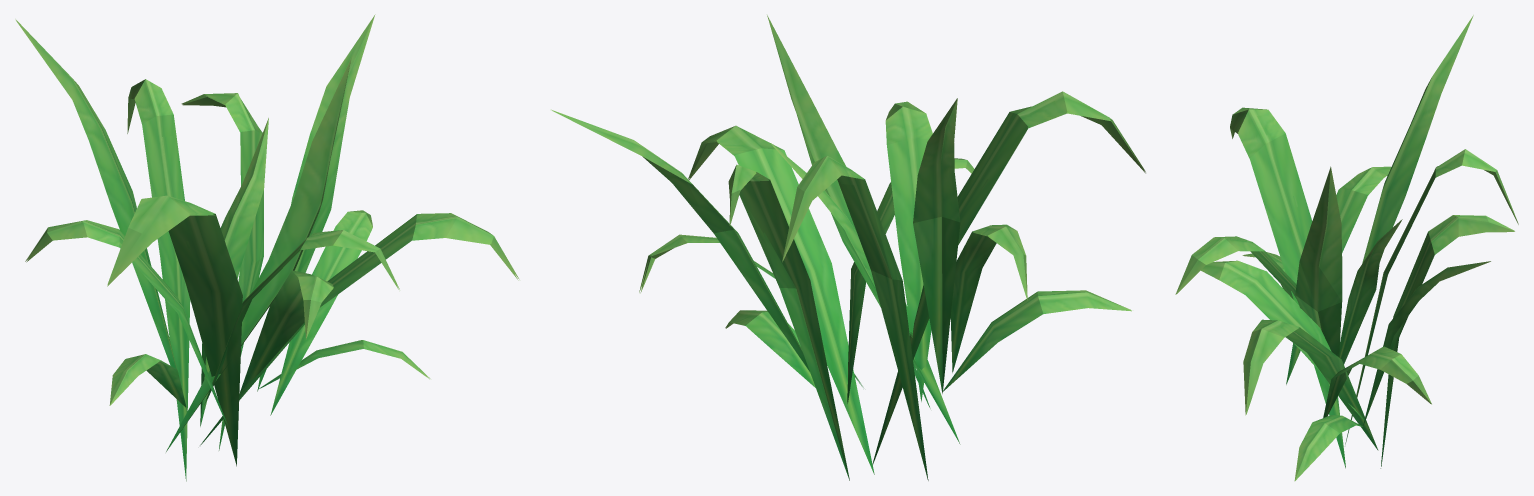
File: sucai_01.FBX
3 renders of one model, left to right at view 1: azimuth 30°, elevation 25°; view 2: azimuth 150°, elevation 25°; view 3: azimuth 270°, elevation 25°, orthographic. The views are drawn at different scales.
Visible parts, largest first — view 1: sucai_01; view 2: sucai_01; view 3: sucai_01.
Part boxes in pixels (left/top/right/bottom): sucai_01: left=15, top=14, right=519, bottom=481; sucai_01: left=551, top=15, right=1145, bottom=480; sucai_01: left=1175, top=15, right=1518, bottom=481.
Bounding box in the file's own units: 105 × 104 × 83.16.
